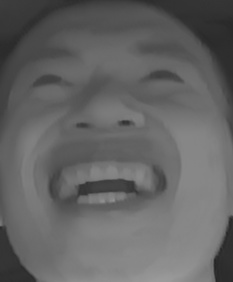eye: (134, 63, 190, 94), (29, 70, 83, 97)
mouth: (45, 147, 167, 212)
